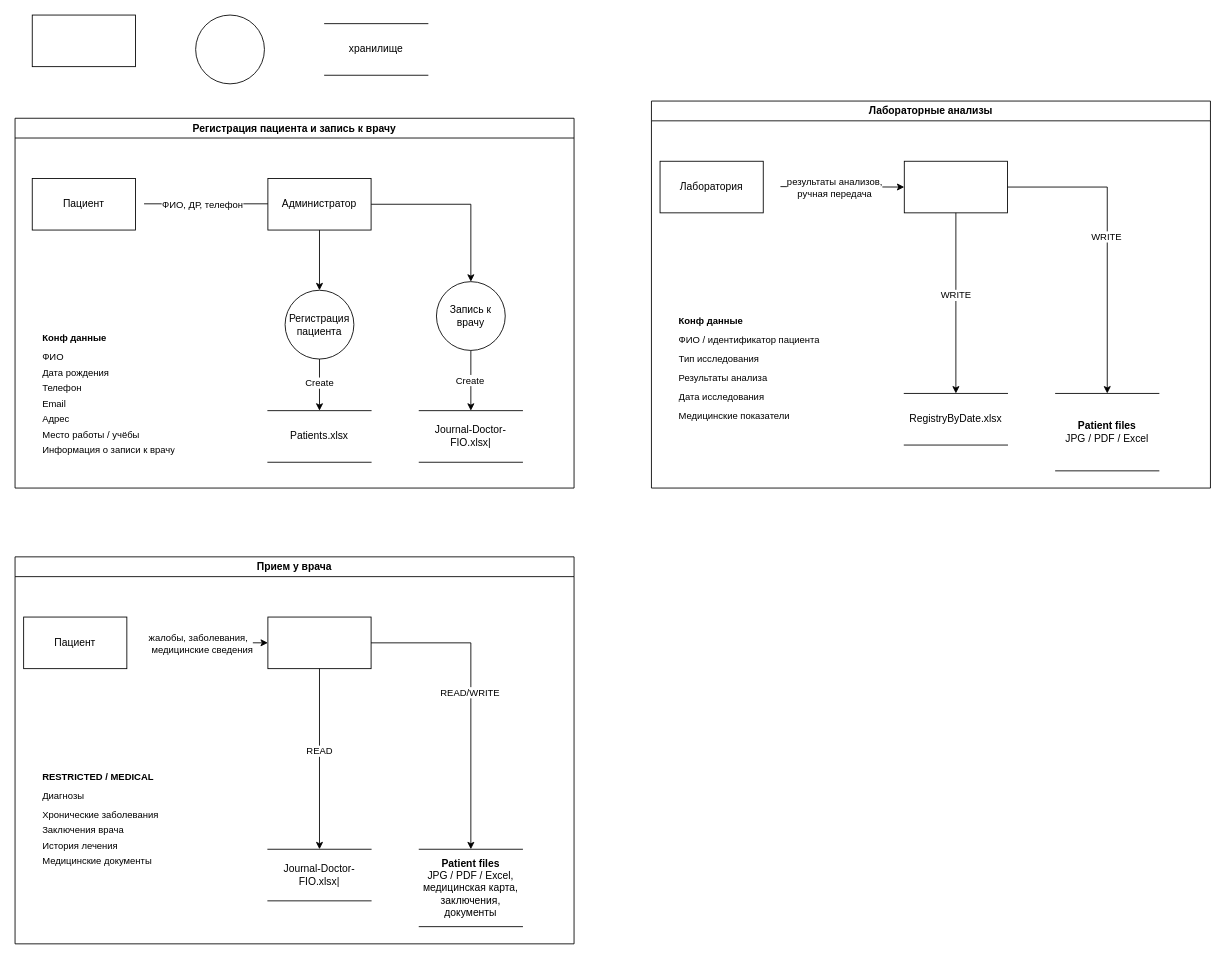
The diagram is 1226 pixels wide and 959 high, and some of its shapes have lost their labels. Each missing label, with the centre of its shape:
Администратор/Доктор: the point at 955,186
внешняя сущность: the point at 83,40
Врач: the point at 319,642
процесс: the point at 229,49
